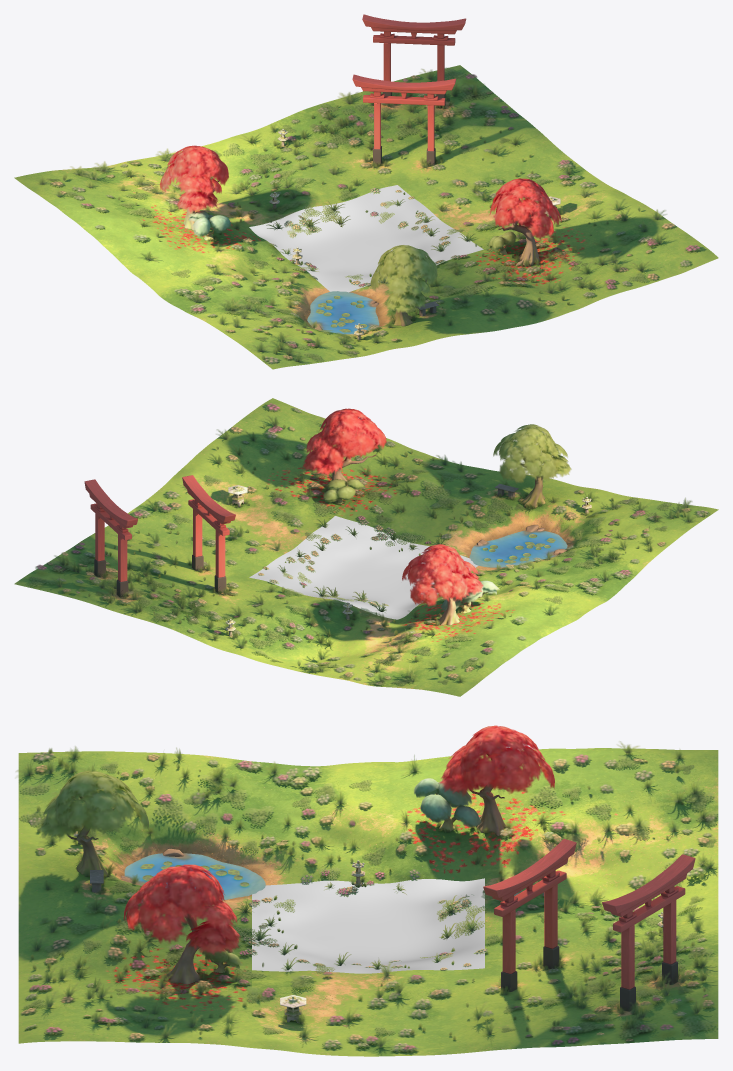
The model's file is garden4k.glb.
3 renders of one model, top to bottom at view 1: azimuth 30°, elevation 25°; view 2: azimuth 150°, elevation 25°; view 3: azimuth 270°, elevation 25°, orthographic. The views are drawn at different scales.
Visible parts, largest first — view 1: L1, L1_foliage, SHADOW, water; view 2: L1, L1_foliage, SHADOW, water; view 3: L1, L1_foliage, SHADOW, water.
Boxes of the visible parts, <box> form: L1: <box>14,14,718,369</box>; L1_foliage: <box>35,67,700,364</box>; SHADOW: <box>249,185,483,292</box>; water: <box>307,291,379,334</box>; L1: <box>14,398,718,696</box>; L1_foliage: <box>29,403,709,685</box>; SHADOW: <box>249,516,478,619</box>; water: <box>469,530,567,567</box>; L1: <box>18,748,718,1056</box>; L1_foliage: <box>16,725,717,1051</box>; SHADOW: <box>252,878,484,973</box>; water: <box>124,853,265,900</box>.
Size of what is drawn, in the model's own units: 26.28 by 6.63 by 26.28.
5 materials, 4 textured.
